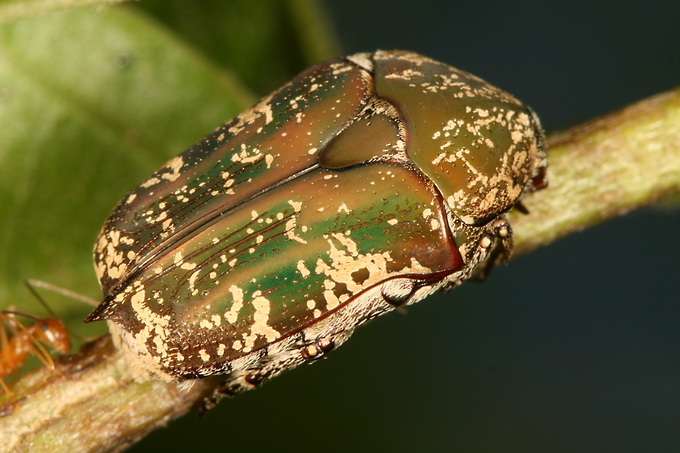Protaetia_fusca: (84, 40, 552, 405)
